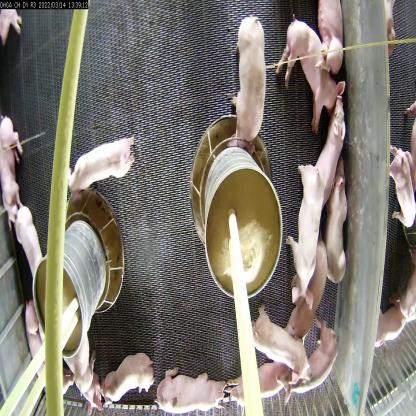Pig: (275, 7, 346, 131), (49, 121, 141, 192), (284, 147, 324, 301), (231, 11, 272, 156), (278, 236, 333, 343), (242, 297, 310, 374), (325, 170, 362, 296), (283, 324, 346, 398), (230, 343, 295, 405), (162, 359, 230, 413), (11, 192, 46, 292), (102, 355, 158, 411), (320, 82, 346, 197), (0, 119, 31, 209)
